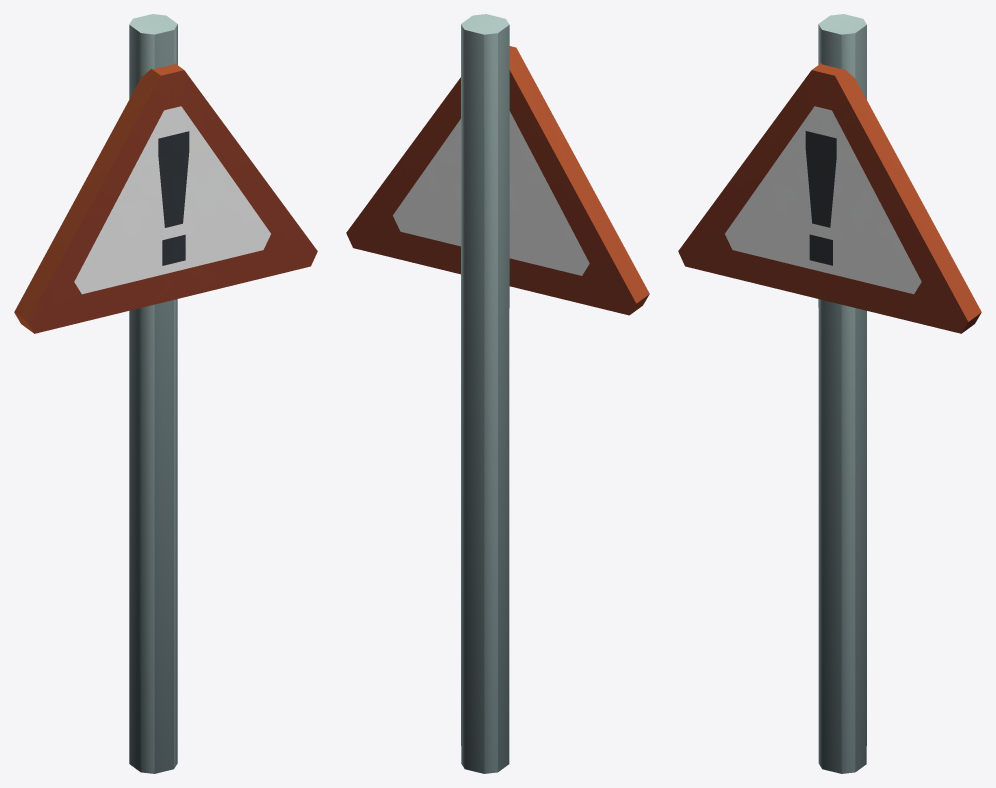
Rendered from sign_warning.fbx.
3 renders of one model, left to right at view 1: azimuth 30°, elevation 25°; view 2: azimuth 150°, elevation 25°; view 3: azimuth 330°, elevation 25°, orthographic.
Parts seen in each view (by area): view 1: sign_warning; view 2: sign_warning; view 3: sign_warning.
Boxes of the visible parts, x1=… form: sign_warning: x1=14, y1=14, x2=317, y2=773; sign_warning: x1=346, y1=14, x2=649, y2=773; sign_warning: x1=678, y1=14, x2=981, y2=773.
Bounding box in the file's own units: 103 × 250 × 19.54.
